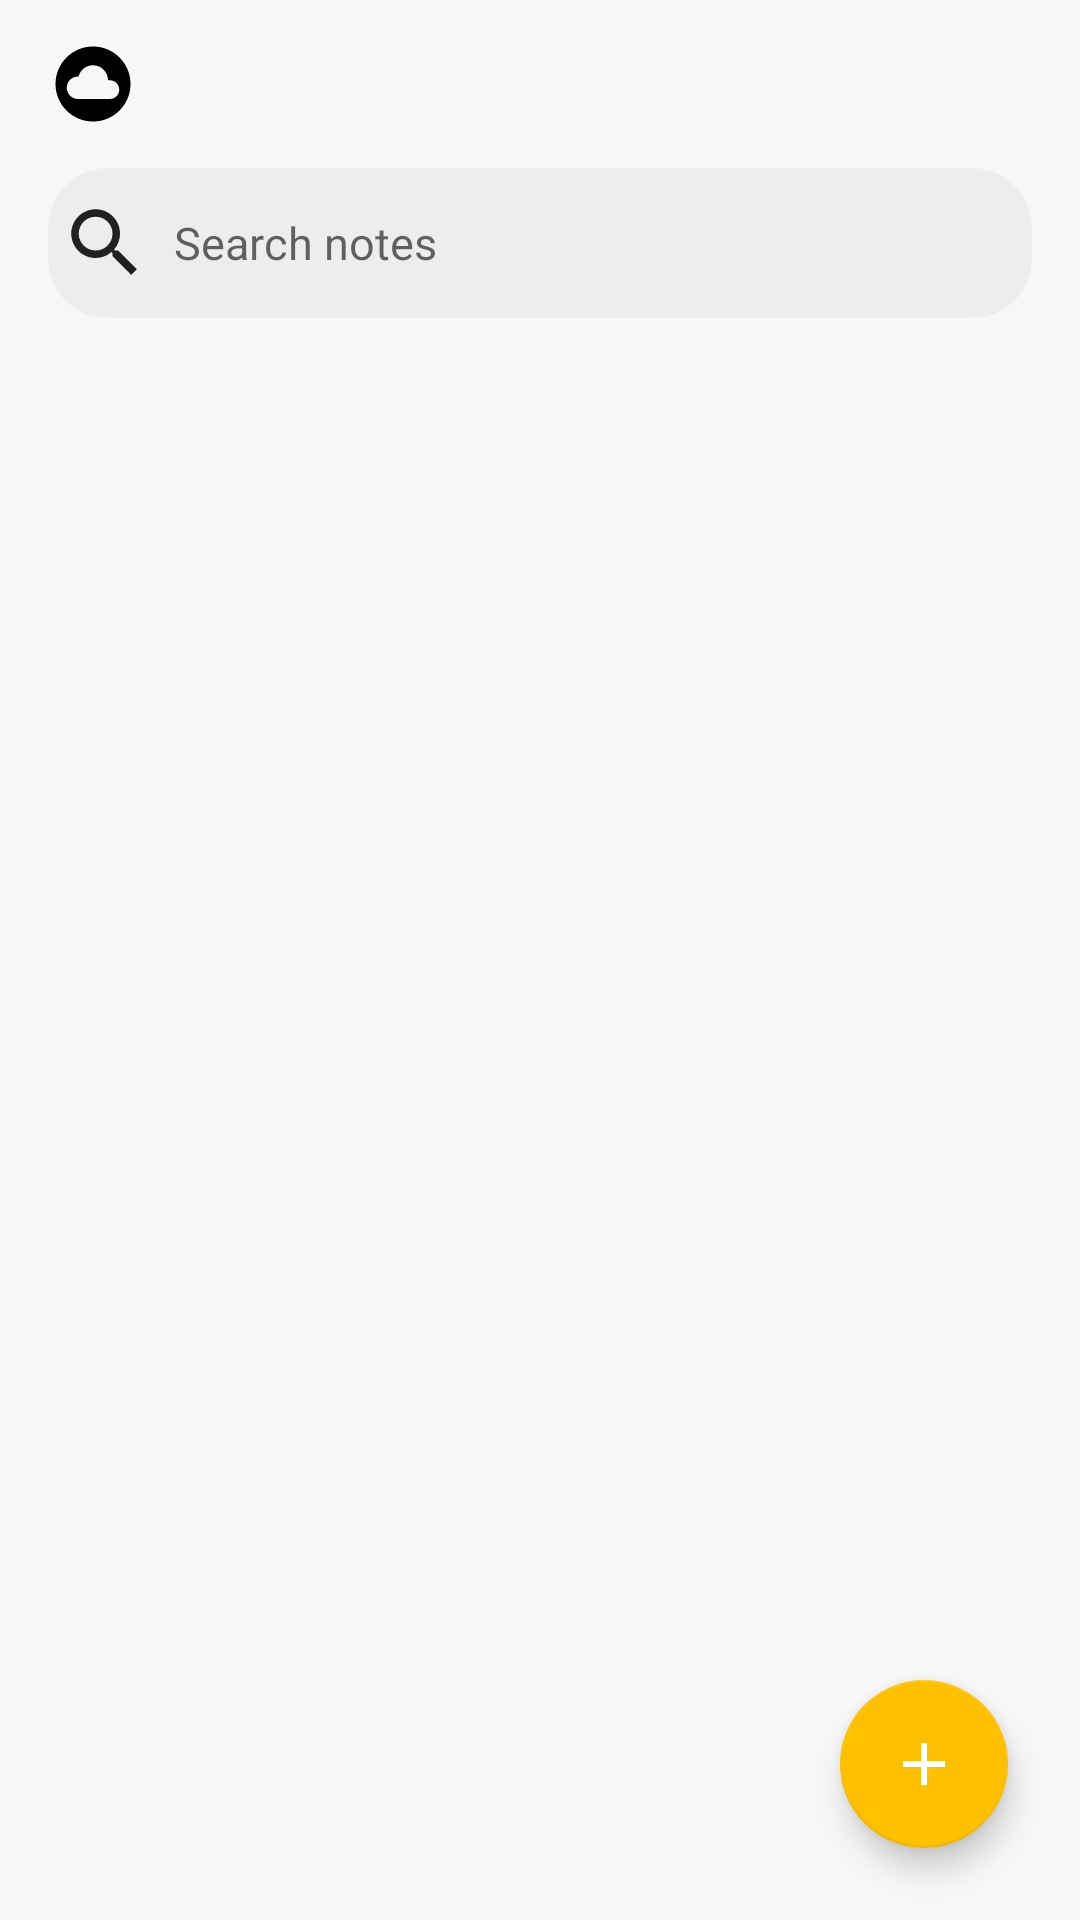

Screen size 1080w x 1920h. Icon name, then its box in pixels as region(x1, y1, x2, y2):
add: region(840, 1680, 1008, 1848)
cloud circle: region(55, 46, 131, 122)
